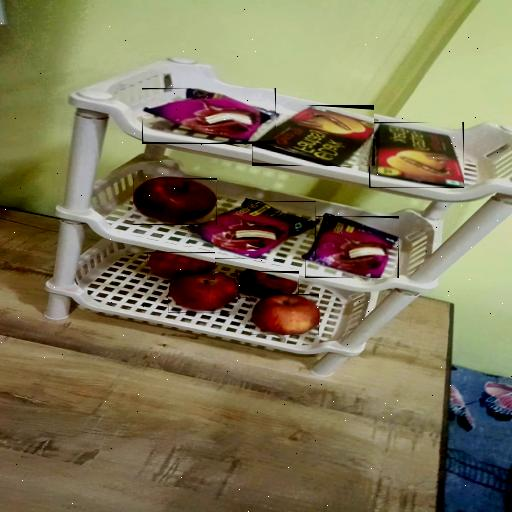Apple: (133, 178, 217, 225), (248, 294, 318, 335), (168, 274, 238, 314), (147, 252, 215, 280), (239, 271, 299, 298)
Choco Fills: (252, 105, 374, 166), (369, 122, 464, 188)
Choco Pie: (142, 88, 276, 144), (189, 201, 316, 259), (305, 216, 399, 278)
